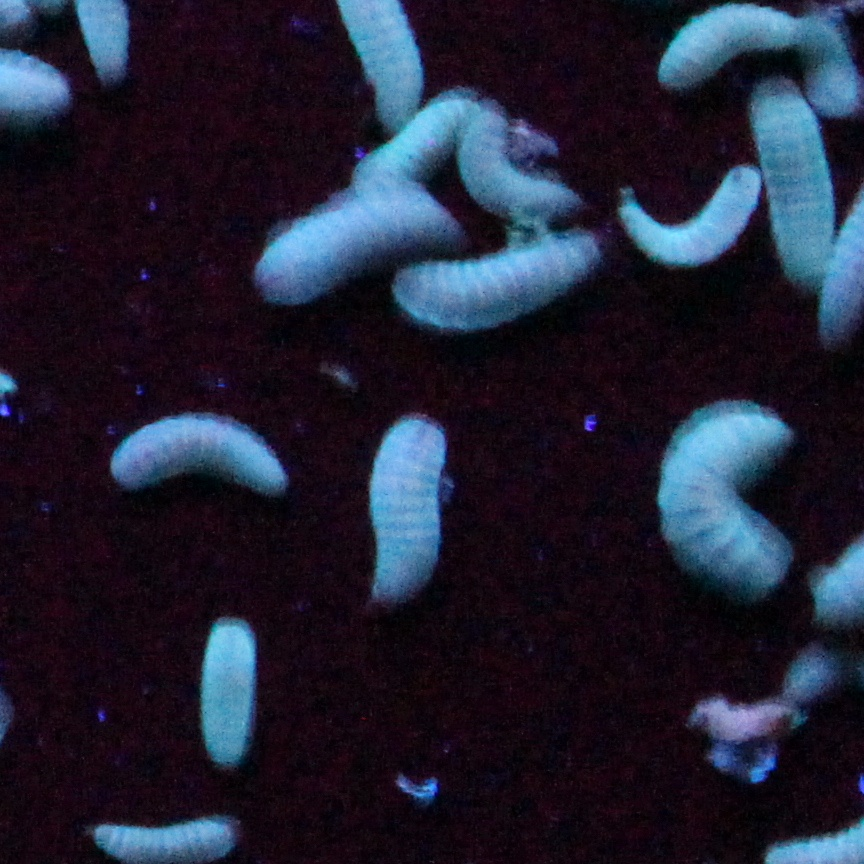larve: (646, 416, 798, 604), (102, 420, 310, 520), (258, 204, 454, 300), (756, 83, 837, 287), (410, 244, 590, 316), (655, 12, 786, 102), (378, 424, 434, 608), (622, 172, 750, 252), (90, 816, 258, 860), (198, 620, 242, 756)
